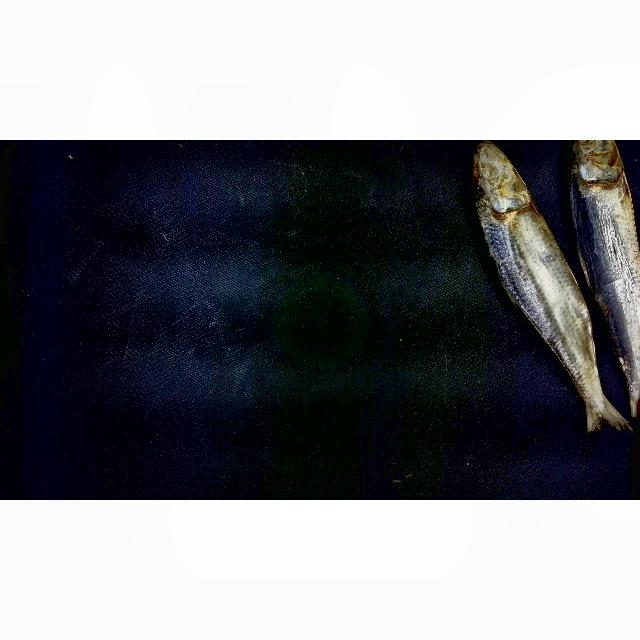Grade_A_Body: (475, 225, 601, 360), (561, 193, 640, 328)
Grade_A_Head: (457, 148, 550, 213), (563, 142, 640, 182)
Grade_A_Tail: (554, 363, 631, 453)
